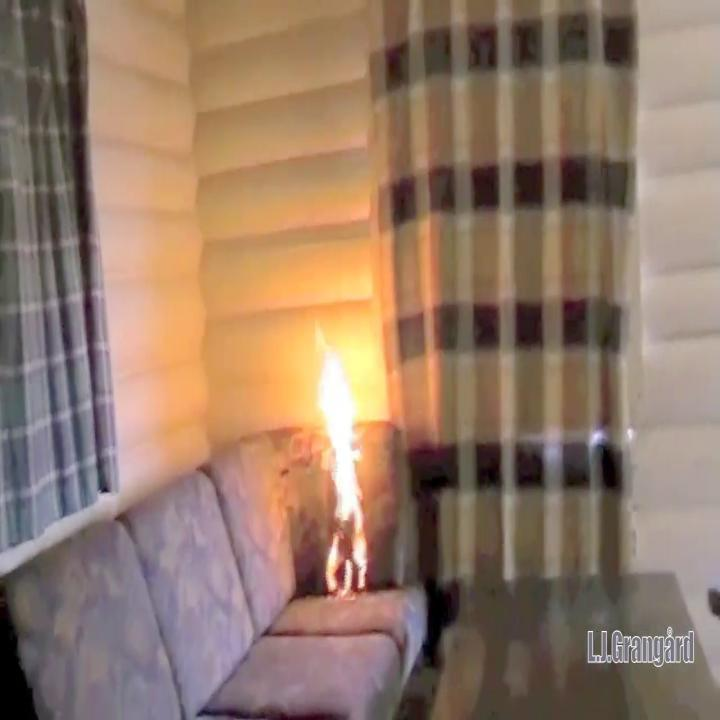fire: (308, 318, 373, 602)
